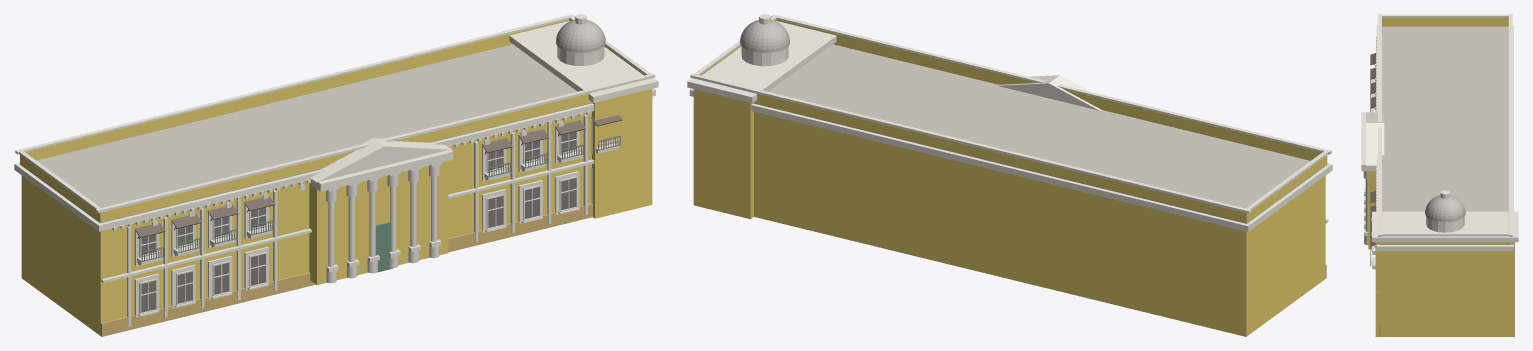
Rendered from antigua-aduana.glb.
3 views of the same model, side by side, from view 1: azimuth 30°, elevation 25°; view 2: azimuth 150°, elevation 25°; view 3: azimuth 270°, elevation 25° (orthographic). The views are drawn at different scales.
Visible parts, largest first — view 1: antigua-aduana · Parapeto continuo, antigua-aduana · Cuerpo largo de dos plantas, antigua-aduana · Pórtico central, antigua-aduana · Pabellón de esquina, antigua-aduana · Muro de Parapeto continuo, antigua-aduana · Muro de Parapeto continuo (3), antigua-aduana · Zócalo corrido, antigua-aduana · Cornisa del pabellón, antigua-aduana · Cornisa continua, antigua-aduana · Albardilla longitudinal (2), antigua-aduana · Albardilla longitudinal, antigua-aduana · Frontón bajo del pórtico (+28 smaller); view 2: antigua-aduana · Cuerpo largo de dos plantas, antigua-aduana · Parapeto continuo, antigua-aduana · Pabellón de esquina, antigua-aduana · Muro de Parapeto continuo, antigua-aduana · Cornisa continua, antigua-aduana · Muro de Parapeto continuo (3), antigua-aduana · Cornisa del pabellón, antigua-aduana · Albardilla longitudinal, antigua-aduana · Albardilla longitudinal (2), antigua-aduana · Frontón bajo del pórtico, antigua-aduana · Cúpula documentada, antigua-aduana · Muro de Parapeto continuo (2) (+2 smaller); view 3: antigua-aduana · Parapeto continuo, antigua-aduana · Cuerpo largo de dos plantas, antigua-aduana · Pabellón de esquina, antigua-aduana · Cornisa del pabellón, antigua-aduana · Cornisa continua, antigua-aduana · Muro de Parapeto continuo (2), antigua-aduana · Albardilla longitudinal, antigua-aduana · Cúpula documentada, antigua-aduana · Albardilla longitudinal (2), antigua-aduana · Frontón bajo del pórtico, antigua-aduana · Albardilla transversal, antigua-aduana · Albardilla transversal (2) (+6 smaller).
Part boxes in pixels (<box>): antigua-aduana · Parapeto continuo: <box>20,44,592,222</box>; antigua-aduana · Cuerpo largo de dos plantas: <box>21,111,591,335</box>; antigua-aduana · Pórtico central: <box>309,161,448,284</box>; antigua-aduana · Pabellón de esquina: <box>592,89,652,218</box>; antigua-aduana · Muro de Parapeto continuo: <box>20,19,569,163</box>; antigua-aduana · Muro de Parapeto continuo (3): <box>99,93,592,223</box>; antigua-aduana · Zócalo corrido: <box>100,203,592,336</box>; antigua-aduana · Cornisa del pabellón: <box>503,15,658,102</box>; antigua-aduana · Cornisa continua: <box>14,88,655,231</box>; antigua-aduana · Albardilla longitudinal (2): <box>95,73,655,213</box>; antigua-aduana · Albardilla longitudinal: <box>15,14,574,154</box>; antigua-aduana · Frontón bajo del pórtico: <box>310,138,450,182</box>; antigua-aduana · Cuerpo largo de dos plantas: <box>754,111,1325,336</box>; antigua-aduana · Parapeto continuo: <box>753,44,1326,223</box>; antigua-aduana · Pabellón de esquina: <box>693,89,753,219</box>; antigua-aduana · Muro de Parapeto continuo: <box>753,94,1247,223</box>; antigua-aduana · Cornisa continua: <box>689,88,1332,231</box>; antigua-aduana · Muro de Parapeto continuo (3): <box>776,19,1327,165</box>; antigua-aduana · Cornisa del pabellón: <box>687,15,842,103</box>; antigua-aduana · Albardilla longitudinal: <box>690,73,1251,213</box>; antigua-aduana · Albardilla longitudinal (2): <box>771,14,1331,154</box>; antigua-aduana · Frontón bajo del pórtico: <box>998,75,1101,110</box>; antigua-aduana · Cúpula documentada: <box>740,20,789,52</box>; antigua-aduana · Muro de Parapeto continuo (2): <box>1246,156,1327,223</box>; antigua-aduana · Parapeto continuo: <box>1382,26,1508,244</box>; antigua-aduana · Cuerpo largo de dos plantas: <box>1381,251,1509,336</box>; antigua-aduana · Pabellón de esquina: <box>1375,242,1514,336</box>; antigua-aduana · Cornisa del pabellón: <box>1372,211,1518,242</box>; antigua-aduana · Cornisa continua: <box>1376,25,1513,251</box>; antigua-aduana · Muro de Parapeto continuo (2): <box>1382,17,1508,26</box>; antigua-aduana · Albardilla longitudinal: <box>1509,14,1512,236</box>; antigua-aduana · Cúpula documentada: <box>1425,195,1465,221</box>; antigua-aduana · Albardilla longitudinal (2): <box>1378,14,1381,236</box>; antigua-aduana · Frontón bajo del pórtico: <box>1366,112,1384,165</box>; antigua-aduana · Albardilla transversal: <box>1380,14,1509,17</box>; antigua-aduana · Albardilla transversal (2): <box>1381,233,1508,236</box>.
Size of the model in its own units: 48.8 by 13.73 by 14.7.
